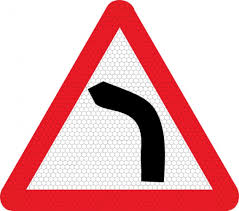Bend_to_left: (2, 1, 237, 211)
